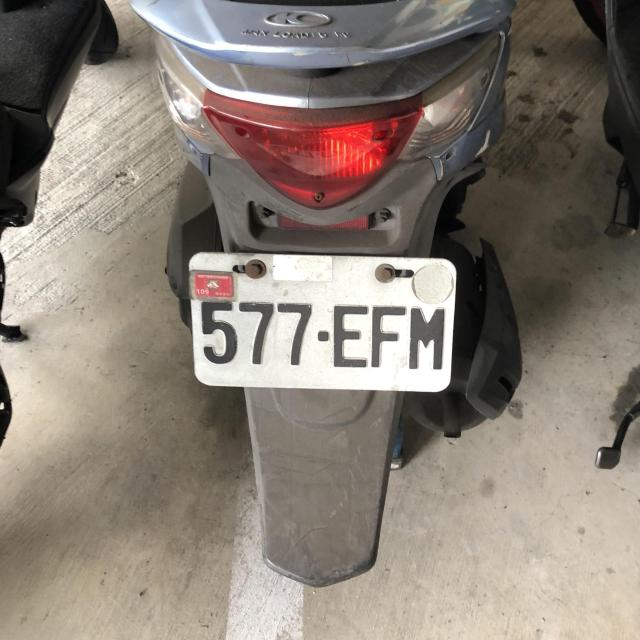W: (180, 244, 458, 391)
